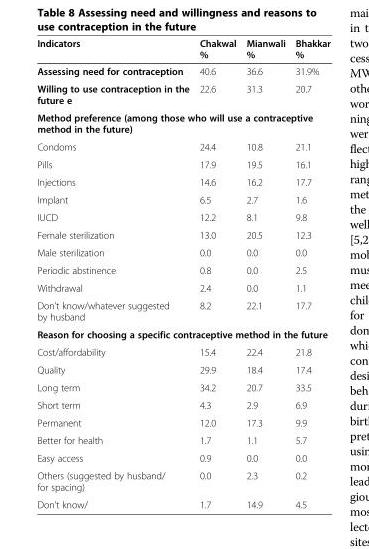table: (36, 37, 329, 509)
table column: (36, 37, 193, 509), (240, 37, 289, 509), (193, 37, 240, 509), (289, 37, 329, 509)
table column header: (36, 37, 329, 62)
table projected row header: (36, 108, 329, 137), (36, 325, 329, 342)
table row: (36, 79, 329, 108), (36, 108, 329, 137), (36, 296, 329, 325), (36, 466, 329, 495), (36, 37, 329, 62), (36, 137, 329, 155), (36, 172, 329, 190), (36, 190, 329, 208), (36, 225, 329, 243), (36, 243, 329, 261), (36, 278, 329, 296), (36, 342, 329, 360), (36, 360, 329, 378), (36, 395, 329, 413), (36, 413, 329, 431), (36, 448, 329, 466), (36, 62, 329, 79), (36, 155, 329, 172), (36, 208, 329, 225), (36, 261, 329, 278), (36, 325, 329, 342), (36, 378, 329, 395), (36, 431, 329, 448), (36, 495, 329, 509)
